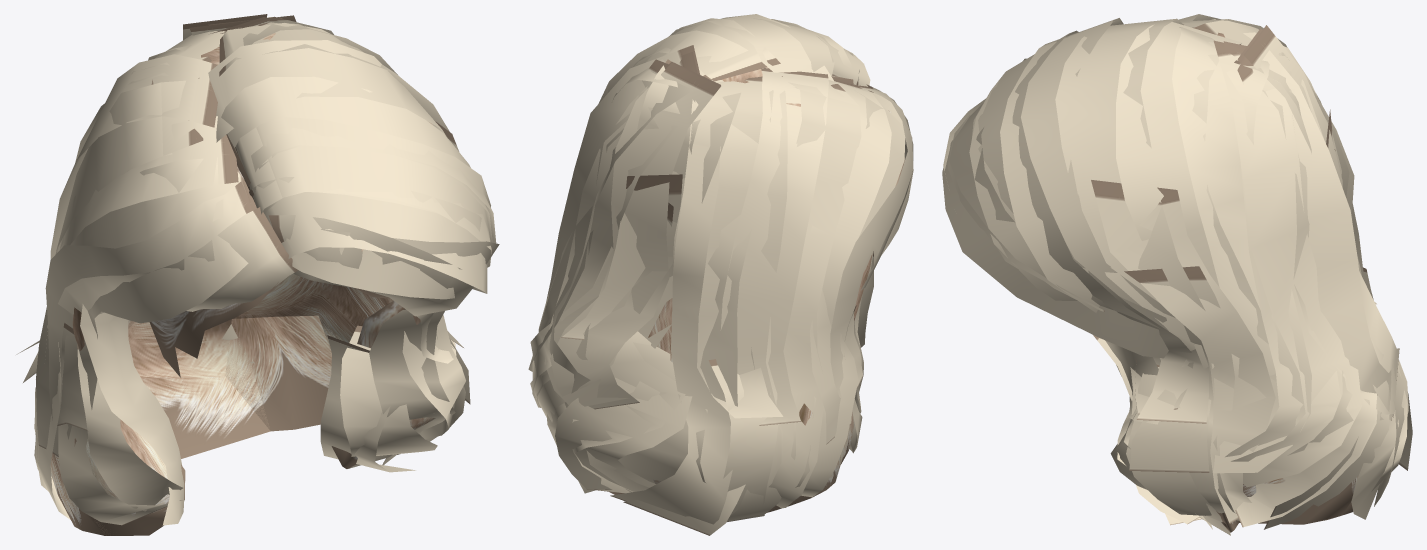
File: hair_006.obj
3 renders of one model, left to right at view 1: azimuth 30°, elevation 25°; view 2: azimuth 150°, elevation 25°; view 3: azimuth 270°, elevation 25°, orthographic. The views are drawn at different scales.
Bounding box in the file's own units: 22.87 × 29.21 × 26.82.
